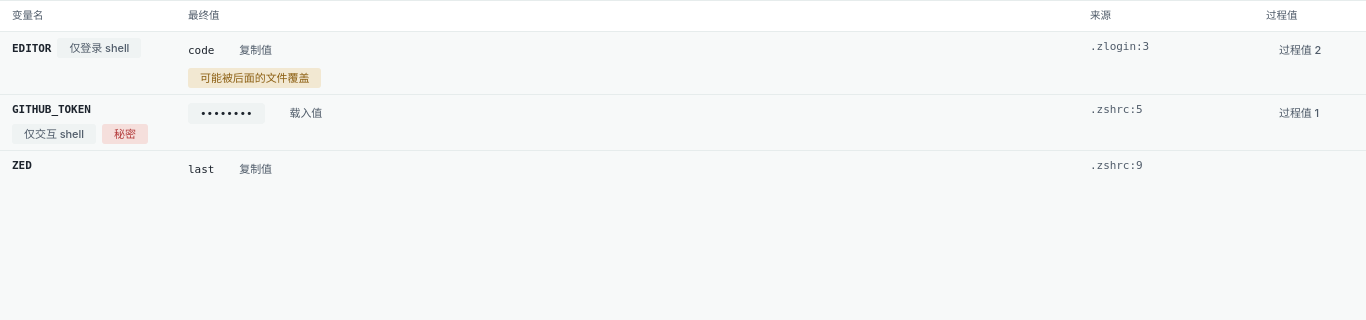
Test: expanding the reading chain › lists earlier assignments in reading order and marks the final one with a 最终 badge
This screenshot has width=1366, height=320.
Click the button "过程值 2" at [1300, 50], box [1266, 38, 1334, 62]
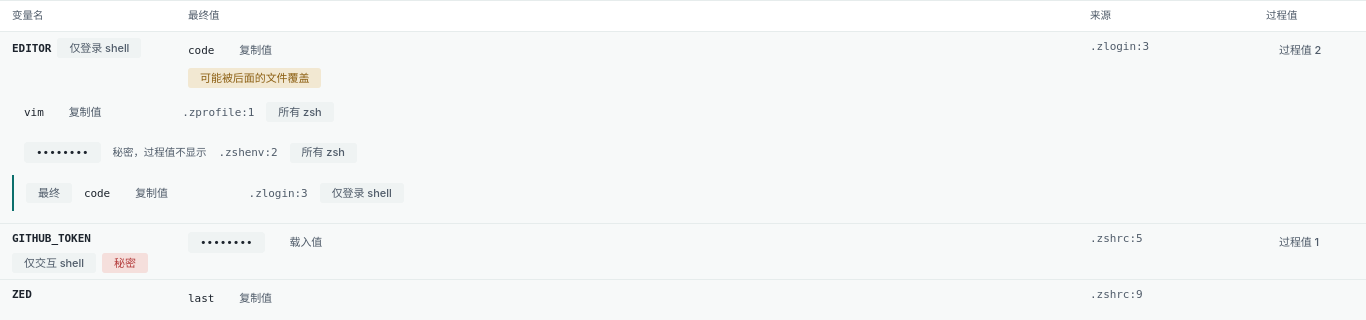
Now the number of list items is 3, box [24, 100, 334, 124]; [24, 142, 357, 163]; [12, 175, 1354, 211]
Now the list item "vim 复制值 .zprofile:1 所有 zsh" is shown, box [24, 100, 334, 124]
Now the list item "最终 code 复制值 .zlogin:3 仅登录 shell" is shown, box [12, 175, 1354, 211]
